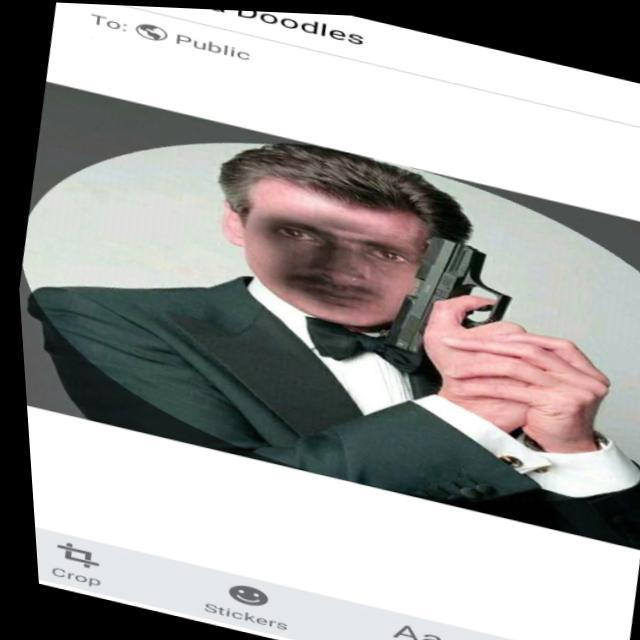weapon: (358, 220, 606, 402)
